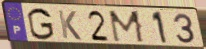1: (151, 10, 169, 45)
2: (86, 10, 111, 43)
3: (172, 12, 197, 45)
G: (26, 7, 56, 42)
K: (56, 9, 83, 41)
M: (107, 10, 147, 45)
